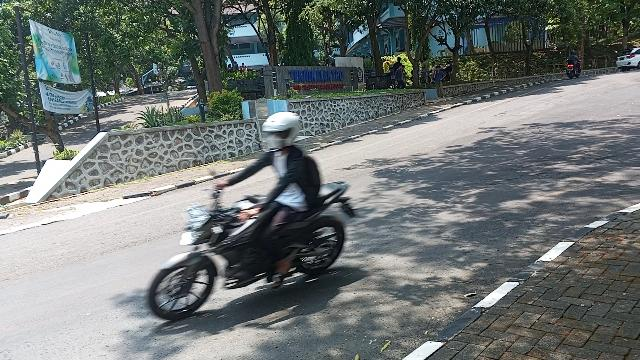helm: (261, 112, 303, 154)
motor: (148, 167, 359, 324)
